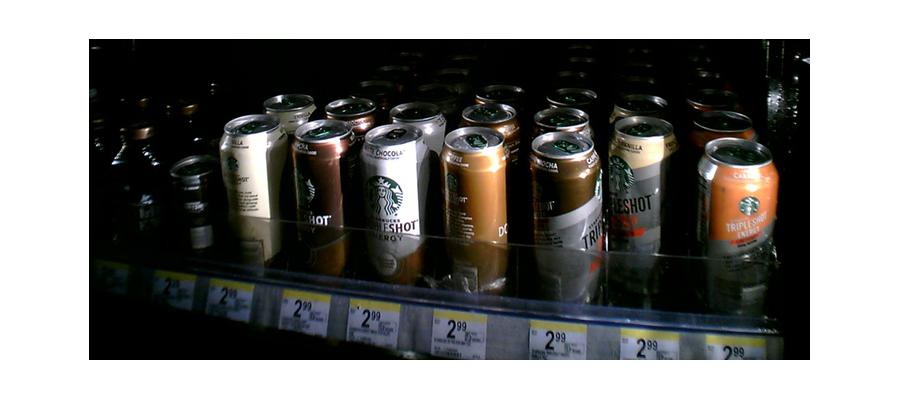bottle: (530, 125, 601, 310), (701, 140, 775, 317), (439, 130, 511, 301), (610, 118, 674, 304), (359, 122, 429, 286), (290, 119, 353, 279), (221, 118, 283, 268), (169, 151, 215, 264)
